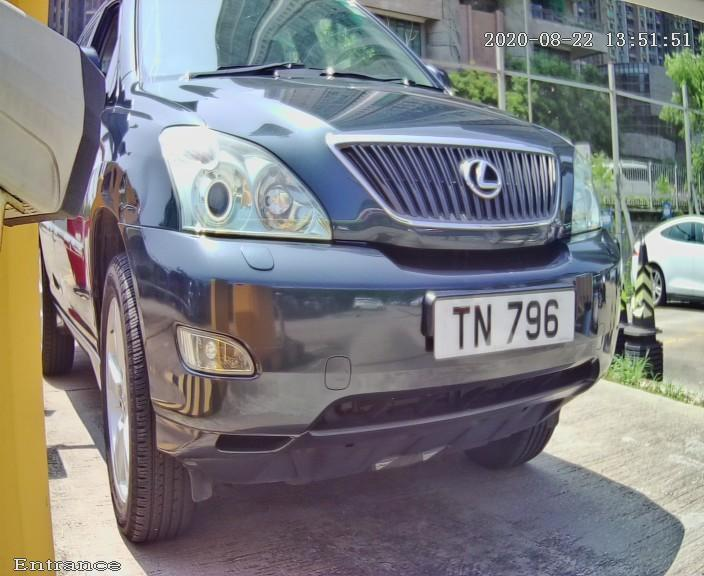License Plate: (398, 264, 598, 385)
